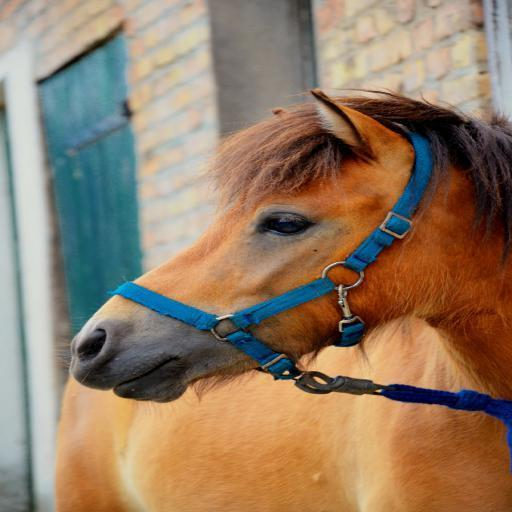horse: (52, 84, 512, 512)
